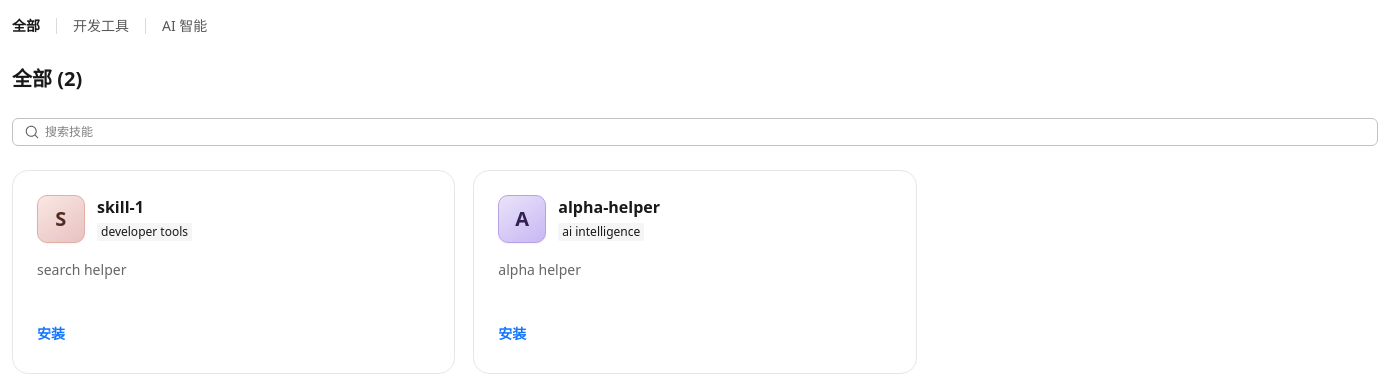
Test case: business theme secondary surfaces › uses the active category name as the plaza title
This screenshot has width=1390, height=391.
expect the text "全部 (2)" is shown: met, box [12,65,82,92]
What coordinates should you click on to do the following:
click the button "开发工具"
I would click on:
 (101, 26)
Its box is [73,12,129,40].
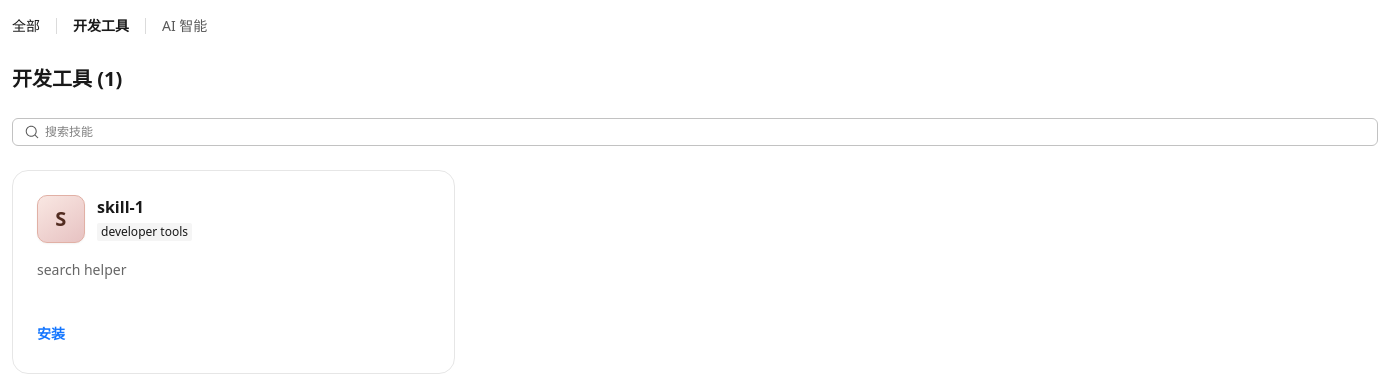
expect the text "开发工具 (1)" is shown: met, box [12,65,122,92]
